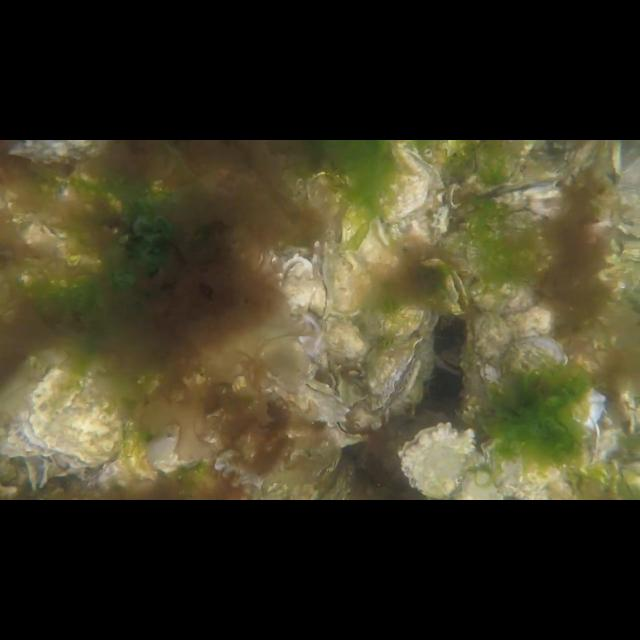Oyster-Closed: (18, 366, 120, 468), (500, 336, 606, 426), (480, 432, 560, 496), (340, 202, 394, 290), (373, 140, 429, 220), (470, 308, 514, 406), (268, 378, 350, 428), (322, 313, 368, 381), (466, 274, 540, 316), (143, 434, 195, 478), (332, 245, 358, 318), (610, 250, 640, 296)
Oyster-Open: (398, 422, 476, 498), (473, 179, 565, 229), (368, 336, 424, 409), (381, 298, 439, 344), (278, 250, 316, 314), (313, 240, 332, 316), (324, 419, 368, 448), (444, 268, 470, 314), (306, 362, 338, 394), (600, 140, 622, 184)
